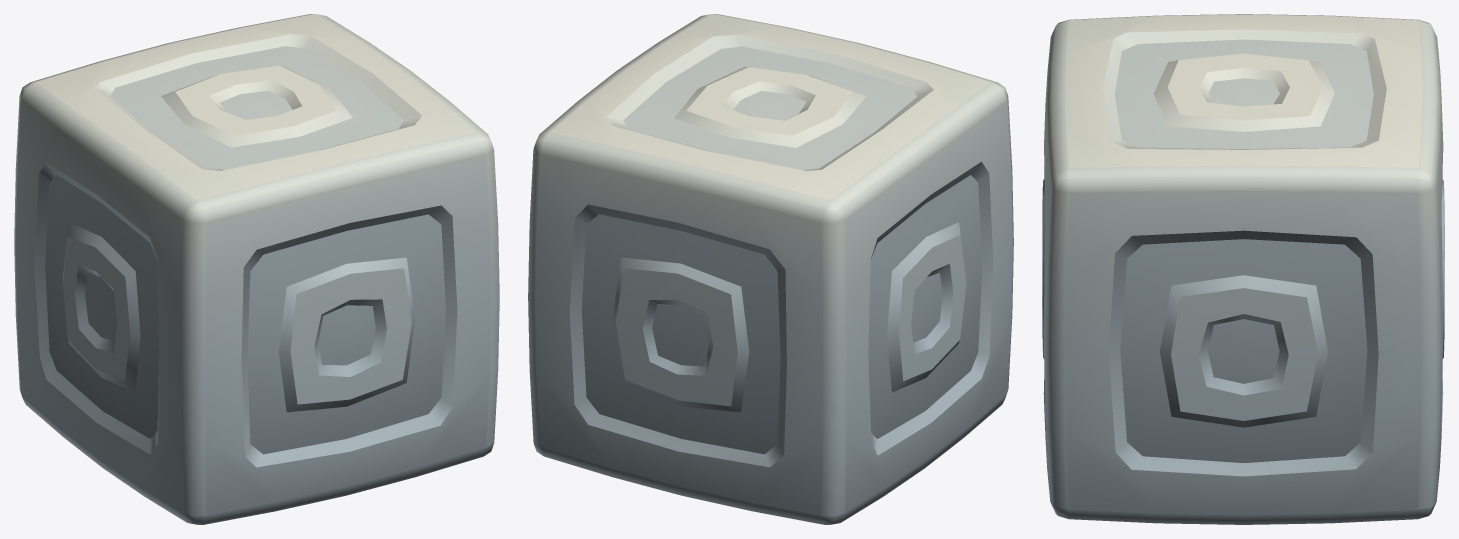
File: Quartz_Pattern.fbx
The picture shows the model from 3 angles, left to right: view 1: azimuth 30°, elevation 25°; view 2: azimuth 150°, elevation 25°; view 3: azimuth 270°, elevation 25°; orthographic projection. The views are drawn at different scales.
Parts seen in each view (by area): view 1: Quartz_Pattern_LOD0; view 2: Quartz_Pattern_LOD0; view 3: Quartz_Pattern_LOD0.
Boxes of the visible parts, x1=… form: Quartz_Pattern_LOD0: x1=14, y1=14, x2=499, y2=524; Quartz_Pattern_LOD0: x1=528, y1=14, x2=1013, y2=524; Quartz_Pattern_LOD0: x1=1042, y1=14, x2=1444, y2=524.
Size of what is drawn, in the model's own units: 1.08 by 1.09 by 1.08.
